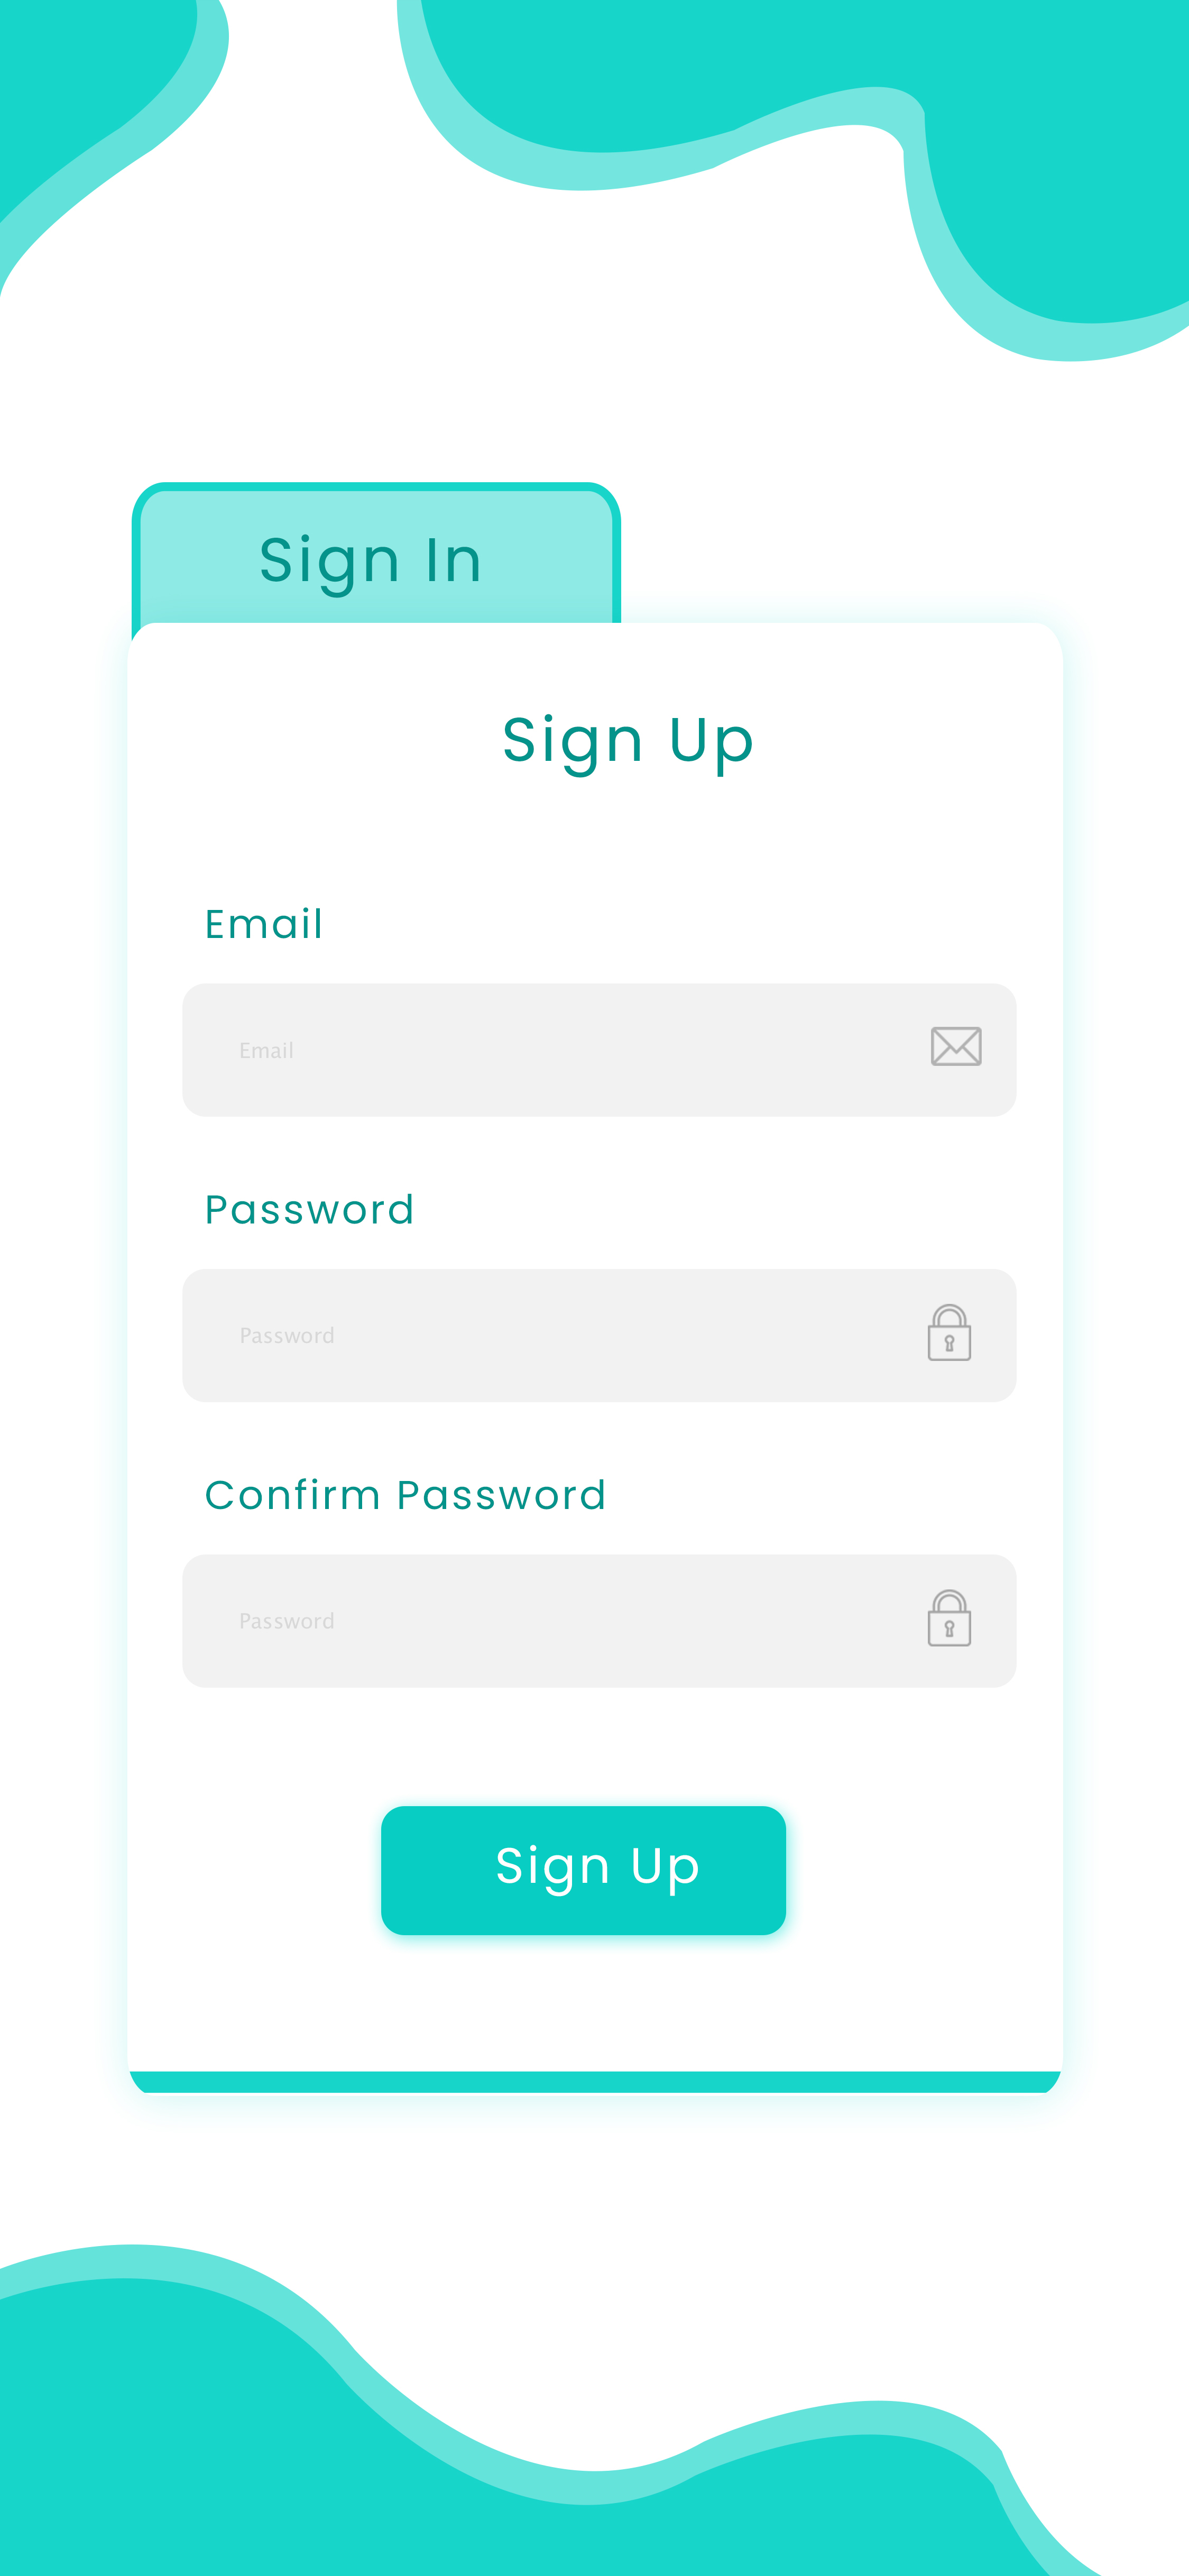EditText: (182, 1268, 1017, 1403), (182, 1554, 1017, 1689), (182, 984, 1017, 1117)
Icon: (928, 1589, 972, 1648), (928, 1303, 972, 1362), (931, 1027, 982, 1066)
Text: (503, 713, 754, 779), (207, 1479, 604, 1510), (207, 1193, 412, 1226), (207, 907, 320, 940), (241, 1612, 333, 1630), (241, 1326, 333, 1344), (241, 1040, 294, 1060)
TextButton: (131, 481, 622, 623), (381, 1805, 787, 1935)
